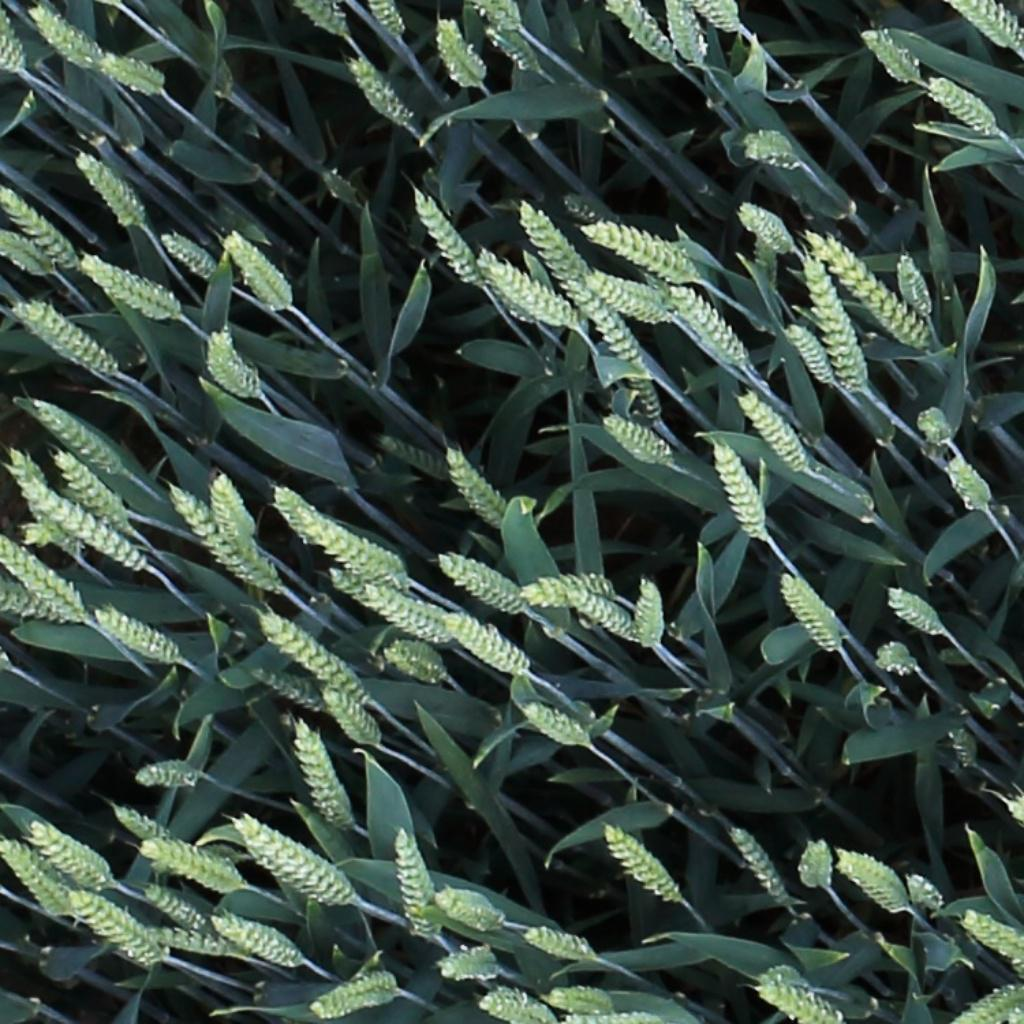0-0: (561, 268, 665, 423), (805, 229, 931, 348), (161, 486, 273, 595), (19, 480, 146, 573), (253, 613, 364, 705), (233, 819, 348, 907), (286, 499, 404, 584), (801, 248, 866, 393), (13, 299, 120, 383), (7, 443, 88, 553), (288, 719, 365, 832), (405, 184, 484, 290), (76, 256, 186, 324), (66, 888, 159, 968), (664, 279, 748, 367), (28, 398, 121, 476), (47, 447, 131, 532), (599, 823, 682, 909), (341, 578, 449, 644), (0, 533, 84, 617), (481, 252, 576, 326), (513, 195, 588, 288), (0, 182, 81, 268), (581, 219, 697, 279), (733, 387, 809, 477), (438, 442, 509, 532), (24, 821, 118, 888), (217, 226, 292, 309), (709, 438, 767, 544), (0, 835, 72, 920), (776, 570, 845, 658), (69, 147, 143, 229), (724, 824, 791, 912), (91, 608, 184, 669), (434, 553, 526, 614), (135, 841, 241, 892), (342, 54, 413, 129), (442, 614, 525, 675), (208, 913, 300, 966), (28, 5, 102, 69), (391, 824, 431, 940), (834, 848, 905, 913), (606, 1, 675, 66), (562, 589, 643, 644), (202, 326, 261, 401), (584, 271, 670, 322), (306, 972, 395, 1021), (431, 13, 484, 91), (928, 75, 998, 132), (780, 318, 836, 389), (751, 980, 841, 1024), (858, 24, 921, 86), (316, 688, 379, 750), (962, 910, 1024, 972), (206, 469, 255, 547), (433, 880, 505, 931), (267, 481, 320, 548), (600, 415, 671, 465), (891, 247, 936, 322), (256, 669, 328, 715), (943, 450, 993, 516), (523, 576, 620, 610), (140, 887, 207, 936), (379, 636, 446, 685), (955, 0, 1019, 50), (735, 200, 795, 252), (376, 435, 450, 477), (2, 588, 83, 626), (886, 587, 946, 637), (521, 703, 587, 748), (484, 21, 542, 72), (633, 572, 666, 660), (662, 0, 704, 68), (139, 927, 234, 957), (98, 54, 166, 95), (157, 229, 215, 277), (0, 230, 61, 275), (477, 988, 553, 1024), (520, 928, 595, 962), (109, 806, 172, 846), (434, 945, 501, 980), (742, 131, 803, 169), (545, 984, 614, 1014), (748, 232, 781, 294), (128, 760, 204, 786), (296, 0, 345, 38), (365, 0, 408, 43), (802, 835, 831, 898), (0, 4, 25, 75), (914, 404, 953, 447), (1007, 798, 1024, 895), (950, 725, 982, 774), (878, 642, 918, 680), (693, 1, 738, 31), (479, 0, 520, 32), (23, 523, 55, 551)
